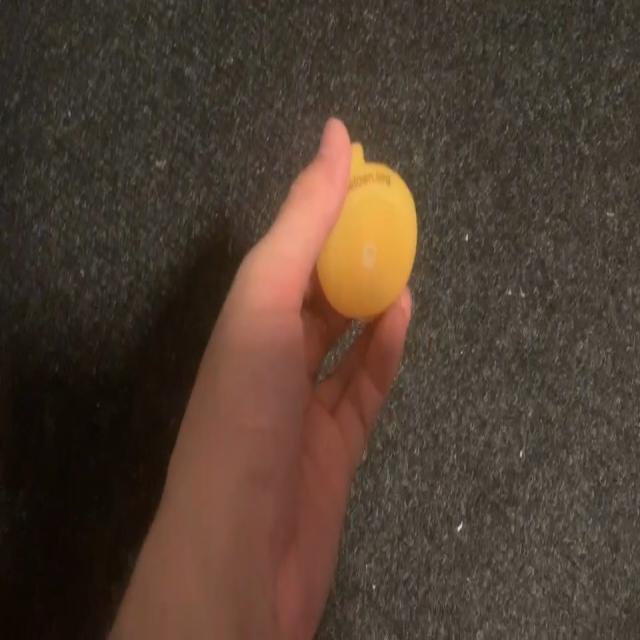rubber-duck: (316, 142, 415, 317)
